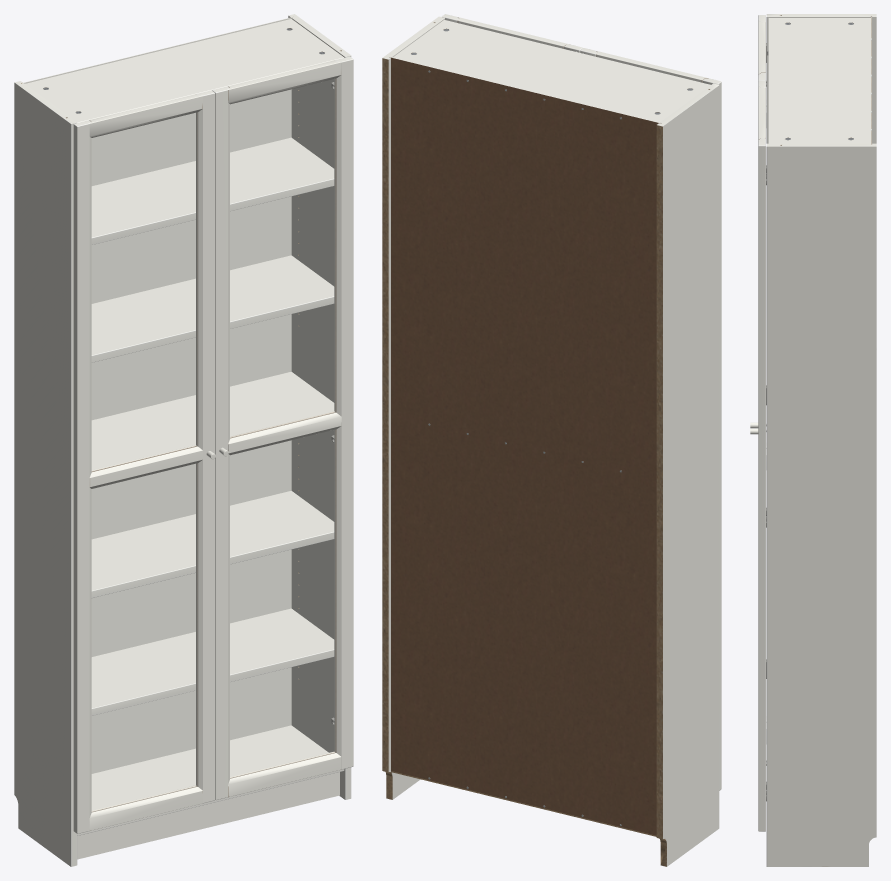
Rendered from billy_oxberg_rega_69017828.glb.
3 renders of one model, left to right at view 1: azimuth 30°, elevation 25°; view 2: azimuth 150°, elevation 25°; view 3: azimuth 270°, elevation 25°, orthographic. The views are drawn at different scales.
Parts seen in each view (by area): view 1: billy_oxberg_rega_69017828; view 2: billy_oxberg_rega_69017828; view 3: billy_oxberg_rega_69017828.
Part boxes in pixels (x1=…): billy_oxberg_rega_69017828: x1=14, y1=14, x2=353, y2=866; billy_oxberg_rega_69017828: x1=382, y1=14, x2=721, y2=866; billy_oxberg_rega_69017828: x1=750, y1=14, x2=876, y2=866.
Bounding box in the file's own units: 0.798 × 2.02 × 0.3219.
2 materials, 1 textured.
